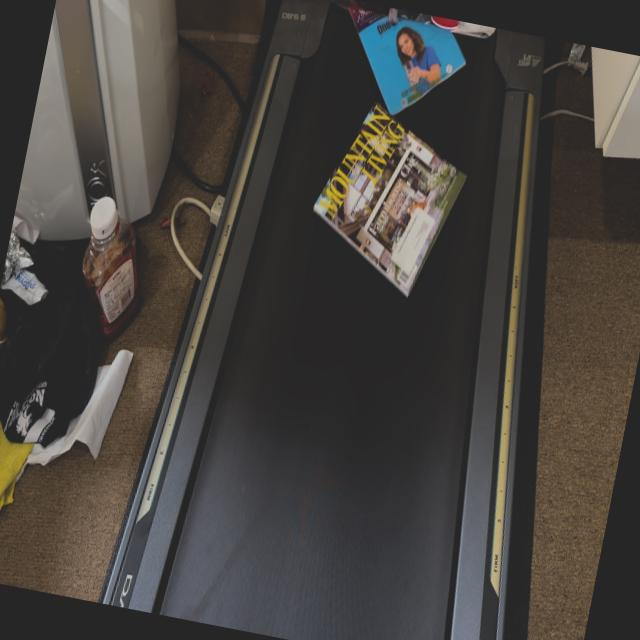Recycle: (296, 94, 480, 305), (322, 0, 476, 128)
